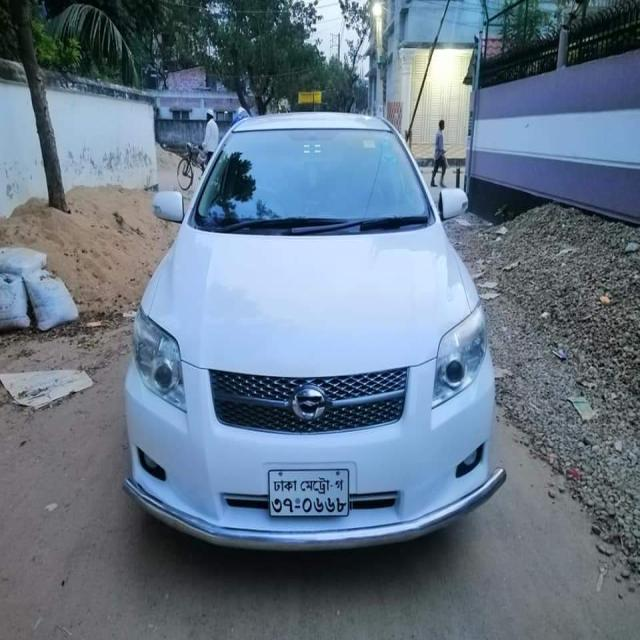white: (128, 98, 511, 561)
